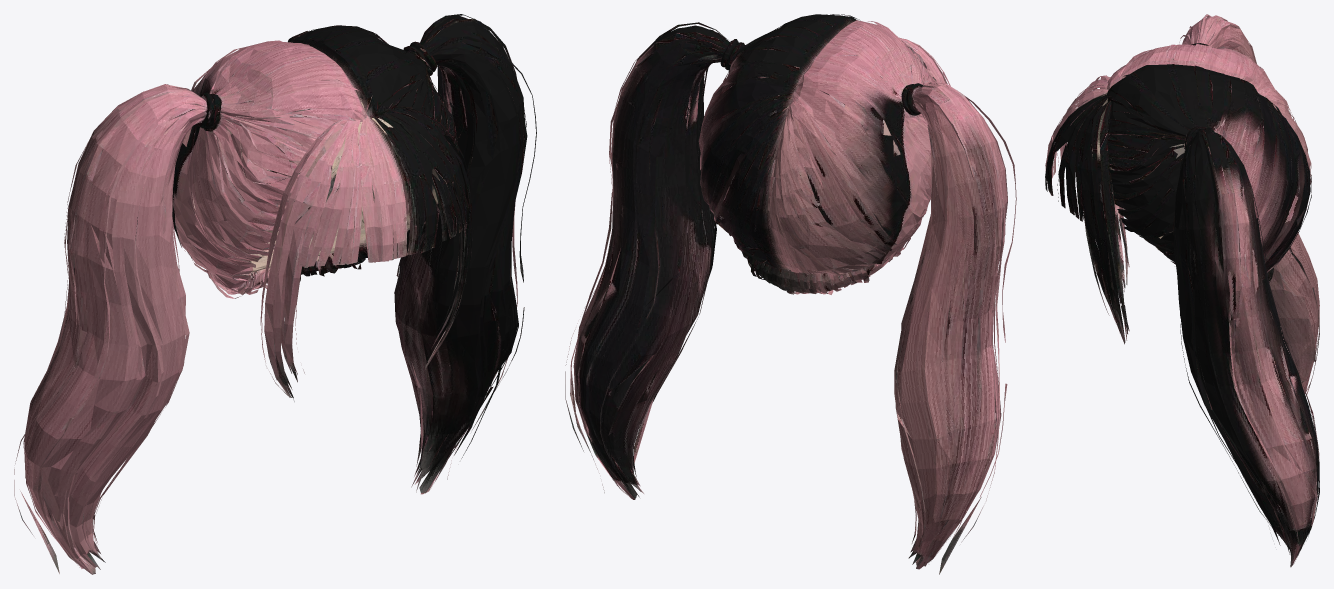
The model's file is ewm_egwig.glb.
3 renders of one model, left to right at view 1: azimuth 30°, elevation 25°; view 2: azimuth 150°, elevation 25°; view 3: azimuth 270°, elevation 25°, orthographic. The views are drawn at different scales.
Parts seen in each view (by area): view 1: ewm_egwig; view 2: ewm_egwig; view 3: ewm_egwig.
Boxes of the visible parts, box(x1,y1,x2,y2) form: ewm_egwig: box(14, 14, 536, 574); ewm_egwig: box(565, 14, 1016, 574); ewm_egwig: box(1045, 14, 1319, 567).
Size of the model in its own units: 0.3685 by 0.3812 by 0.2149.
Materials: 1 (1 with a texture image).
